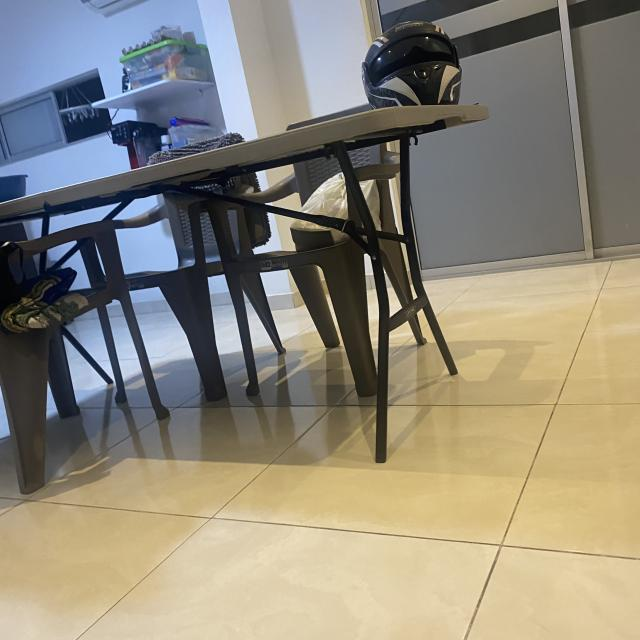obstacle: (0, 59, 506, 474)
